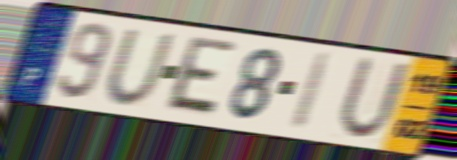8: (228, 46, 284, 123)
9: (54, 21, 112, 103)
E: (160, 34, 240, 121)
I: (287, 50, 337, 134)
U: (334, 53, 414, 144), (104, 27, 178, 109)
